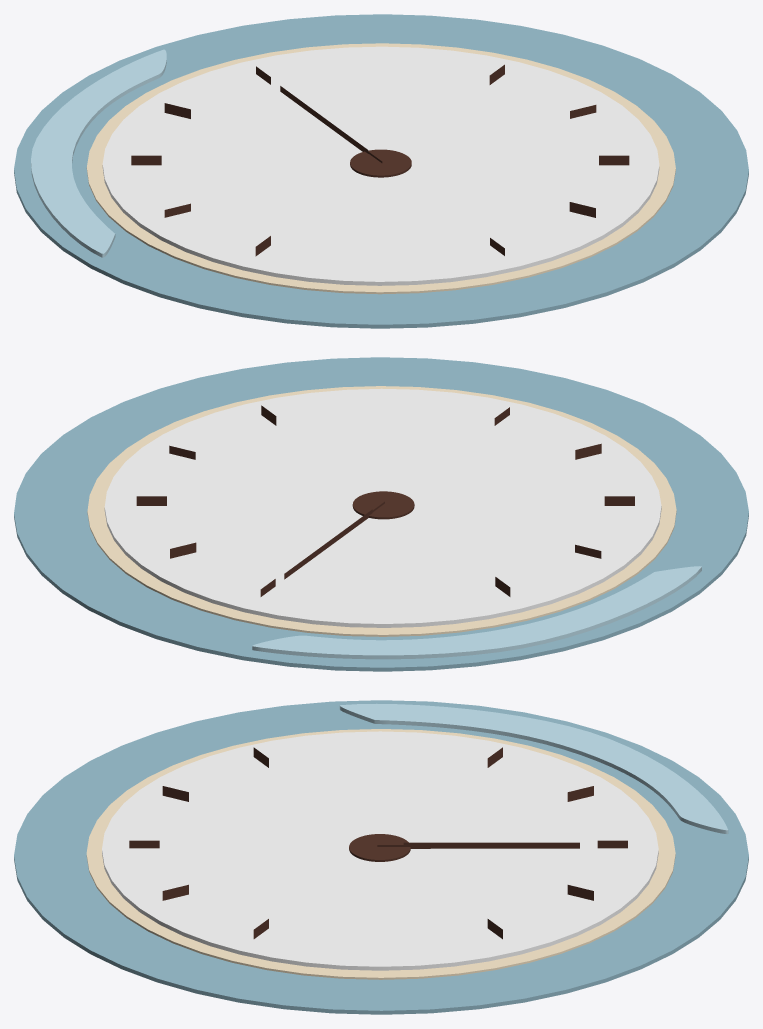
File: emoji_u1f55b.glb
3 renders of one model, top to bottom at view 1: azimuth 30°, elevation 25°; view 2: azimuth 150°, elevation 25°; view 3: azimuth 270°, elevation 25°, orthographic.
Visible parts, largest first — view 1: emoji_u1f55b; view 2: emoji_u1f55b; view 3: emoji_u1f55b.
Part boxes in pixels (x1,y1,x2,y2): emoji_u1f55b: (14,14,748,328); emoji_u1f55b: (14,357,748,671); emoji_u1f55b: (14,700,748,1014).
Size of the model in its own units: 0.0339 by 0.0018 by 0.0339.
